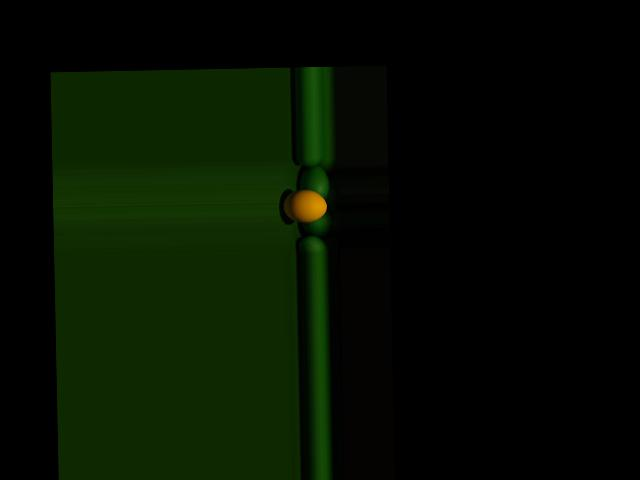egg: (282, 188, 326, 222)
